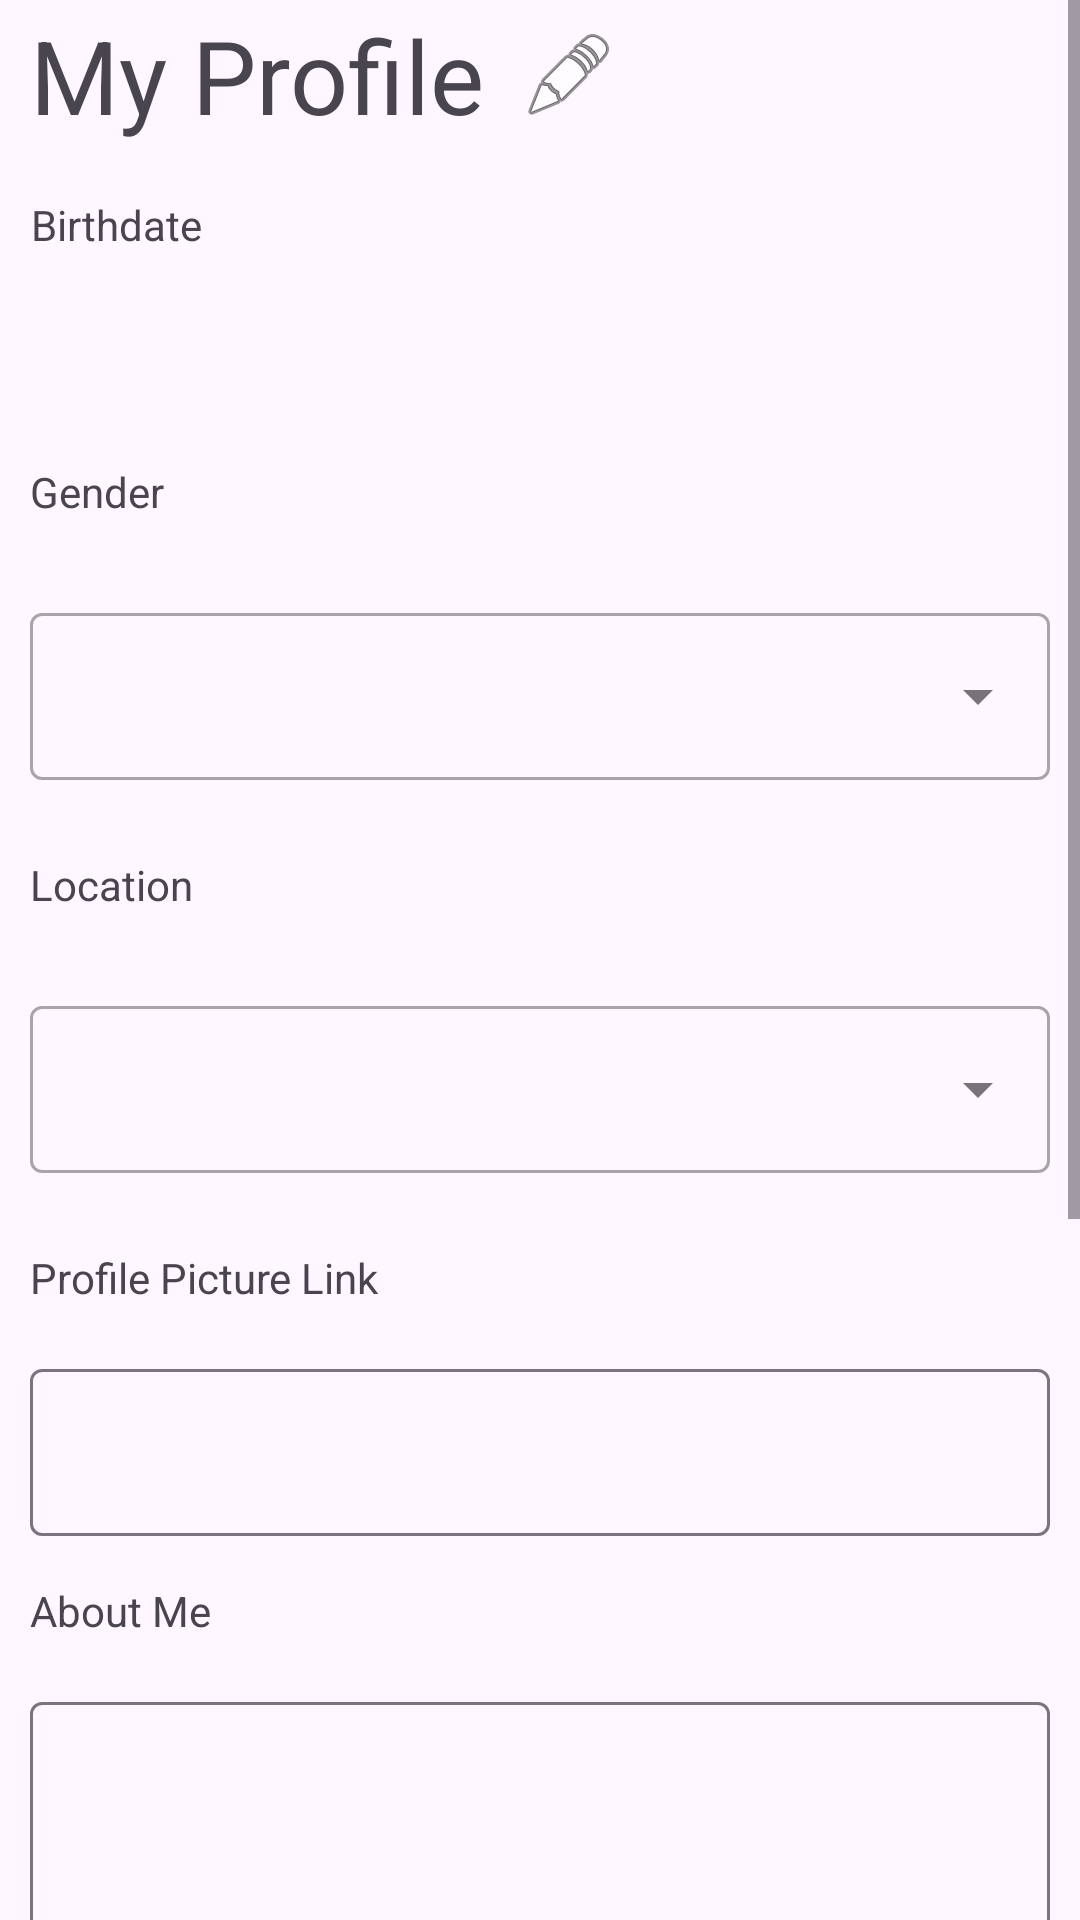

Named icons in this screenshot (1080×1920) and their bounding boxes, bbox=[x1, y1, x2, y2]:
Click to edit Profile: bbox=[528, 34, 609, 115]
